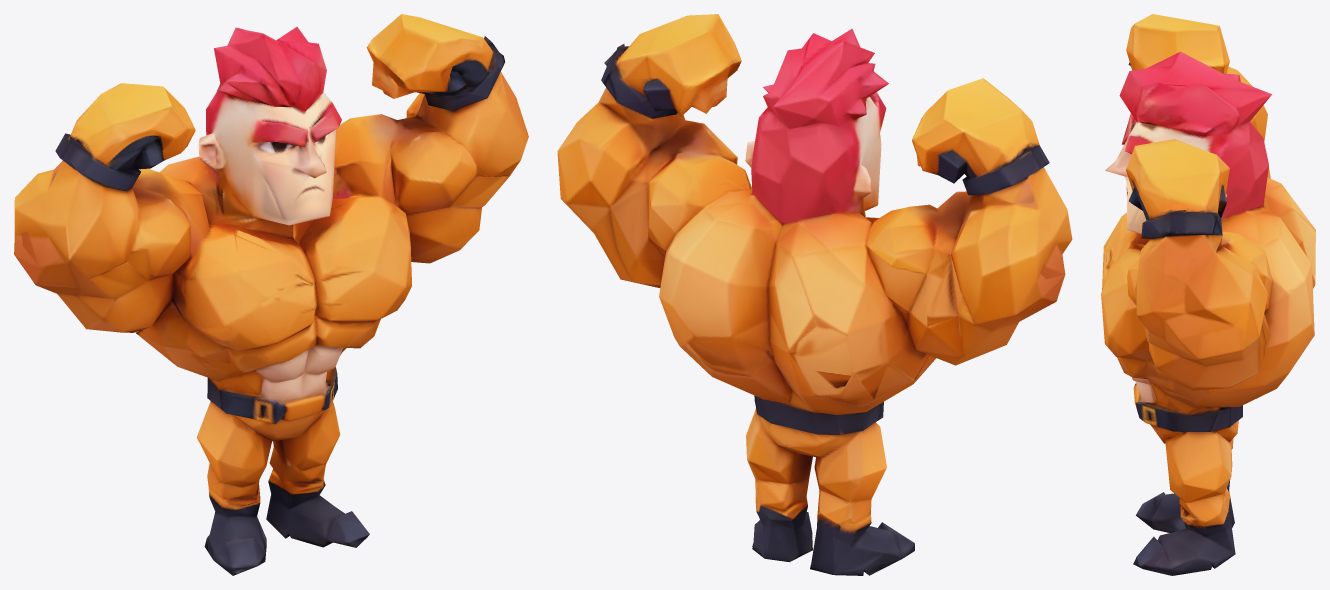
Rendered from body_BMM.fbx.
The picture shows the model from 3 angles, left to right: view 1: azimuth 30°, elevation 25°; view 2: azimuth 150°, elevation 25°; view 3: azimuth 270°, elevation 25°; orthographic projection. The views are drawn at different scales.
Visible parts, largest first — view 1: model; view 2: model; view 3: model.
Part boxes in pixels (x1,y1,x2,y2): model: (14, 14, 528, 575); model: (557, 14, 1072, 575); model: (1101, 14, 1315, 575).
Size of the model in its own units: 175 by 178 by 71.67.
